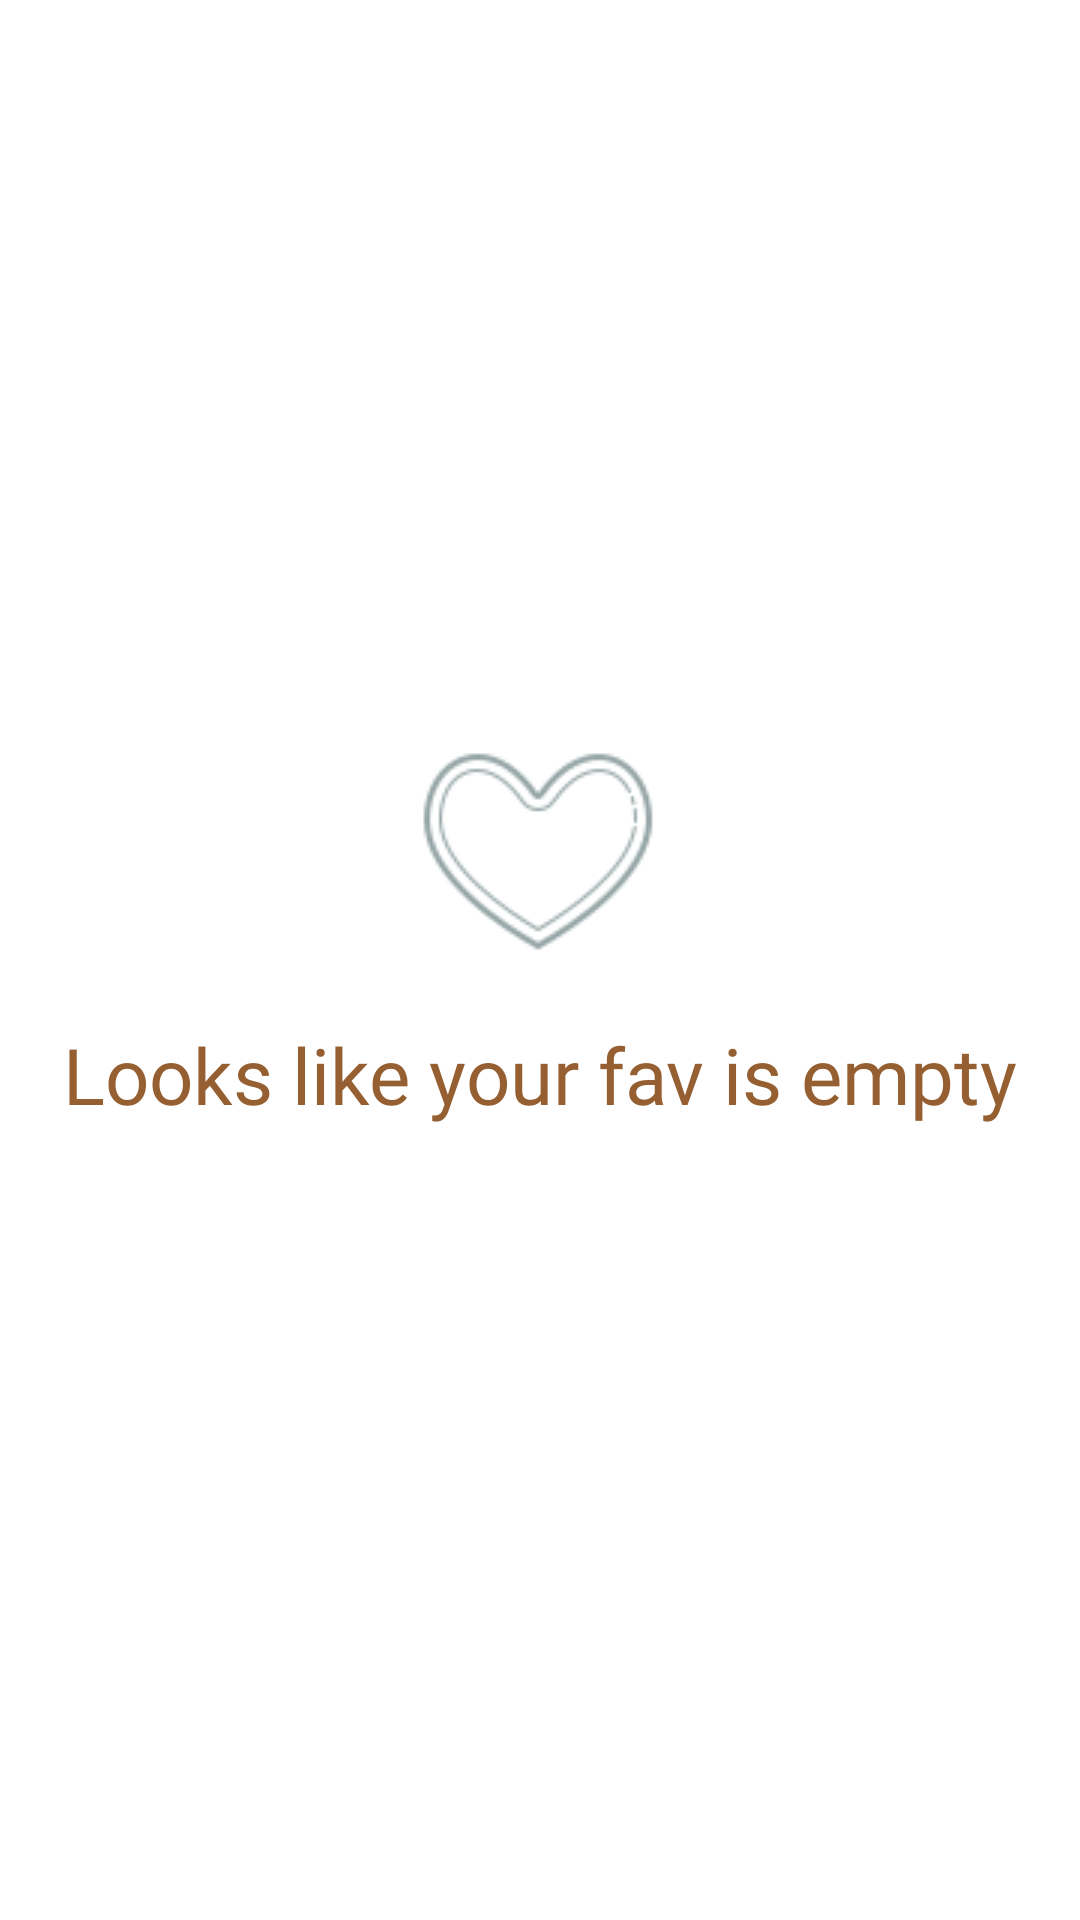

Icons on this 1080px×1920px Android screen, each with its box as (x1=x1, y1=y1, x2=x2, y2=y2):
heart: (x1=423, y1=753, x2=653, y2=950)
